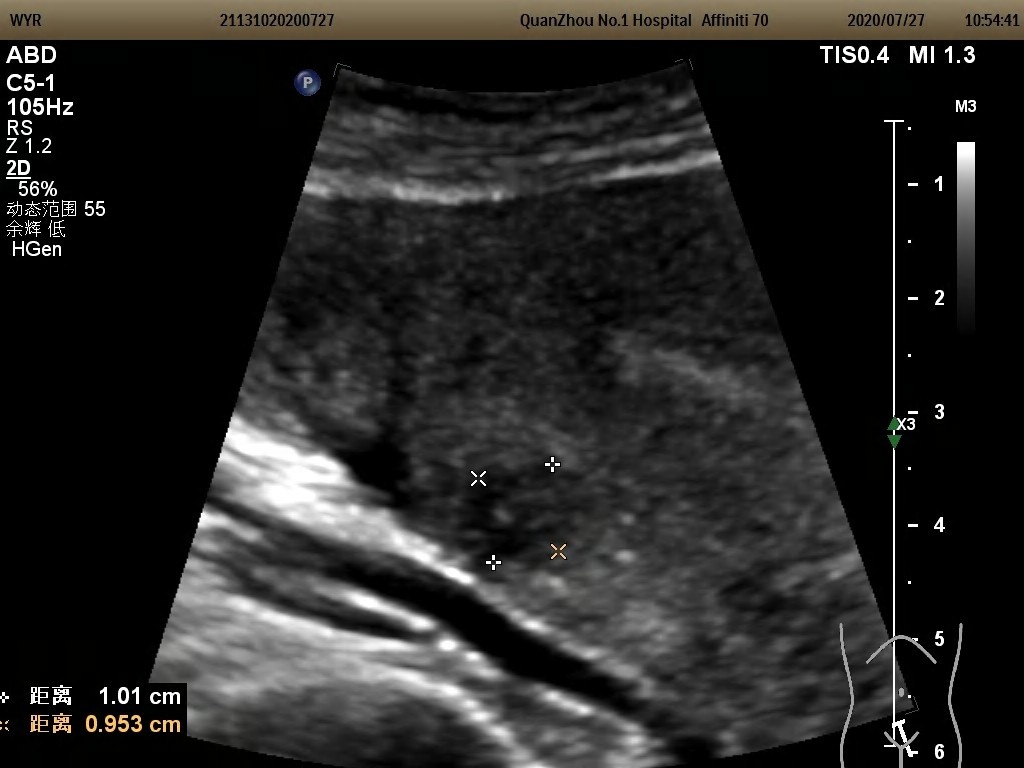肌瘤: (478, 478, 553, 554)
